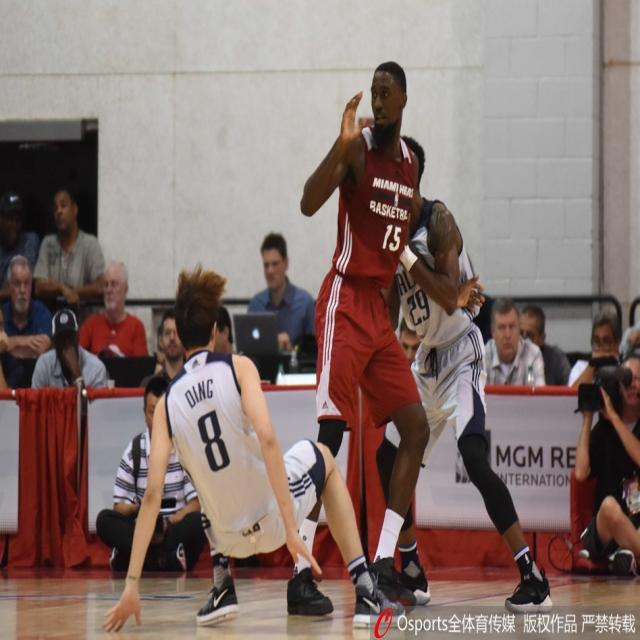10-: (0, 57, 639, 614)
down: (99, 260, 395, 638)
